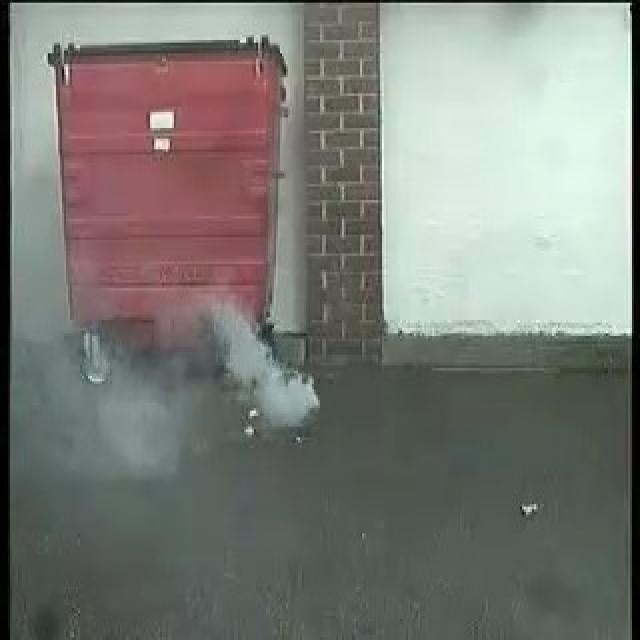smoke: (209, 306, 321, 430)
